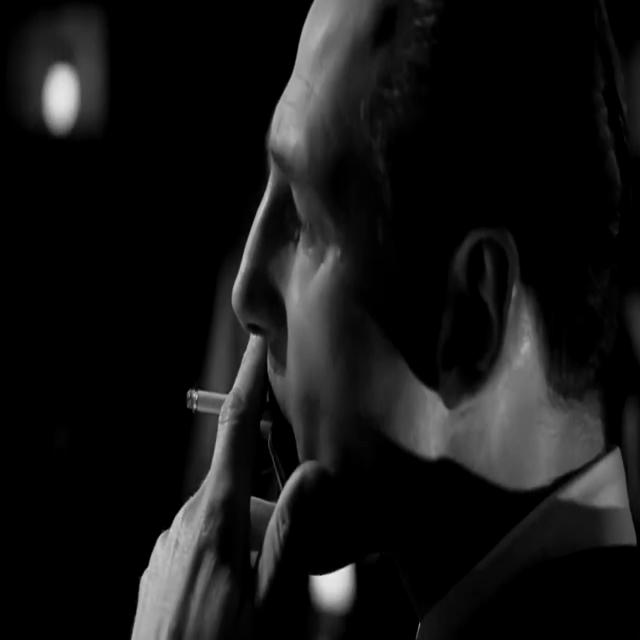Smooking: (180, 386, 228, 416)
